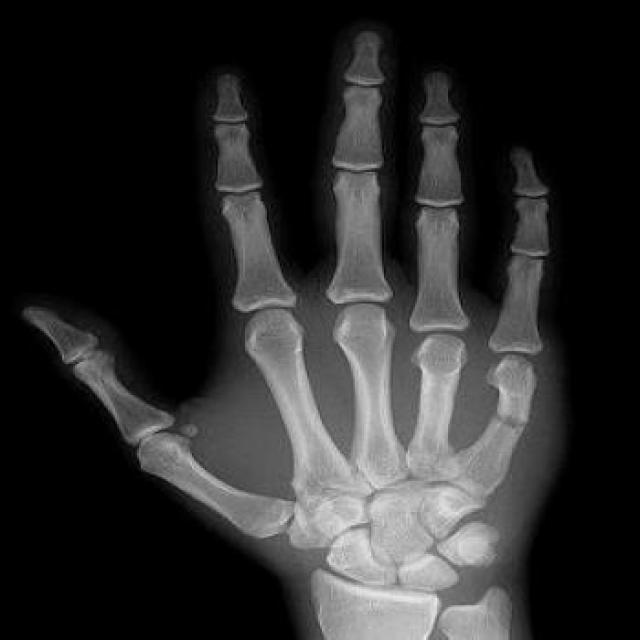fracture: (477, 401, 545, 438)
